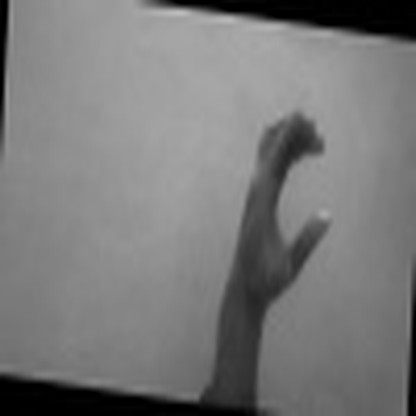c: (228, 104, 337, 300)
